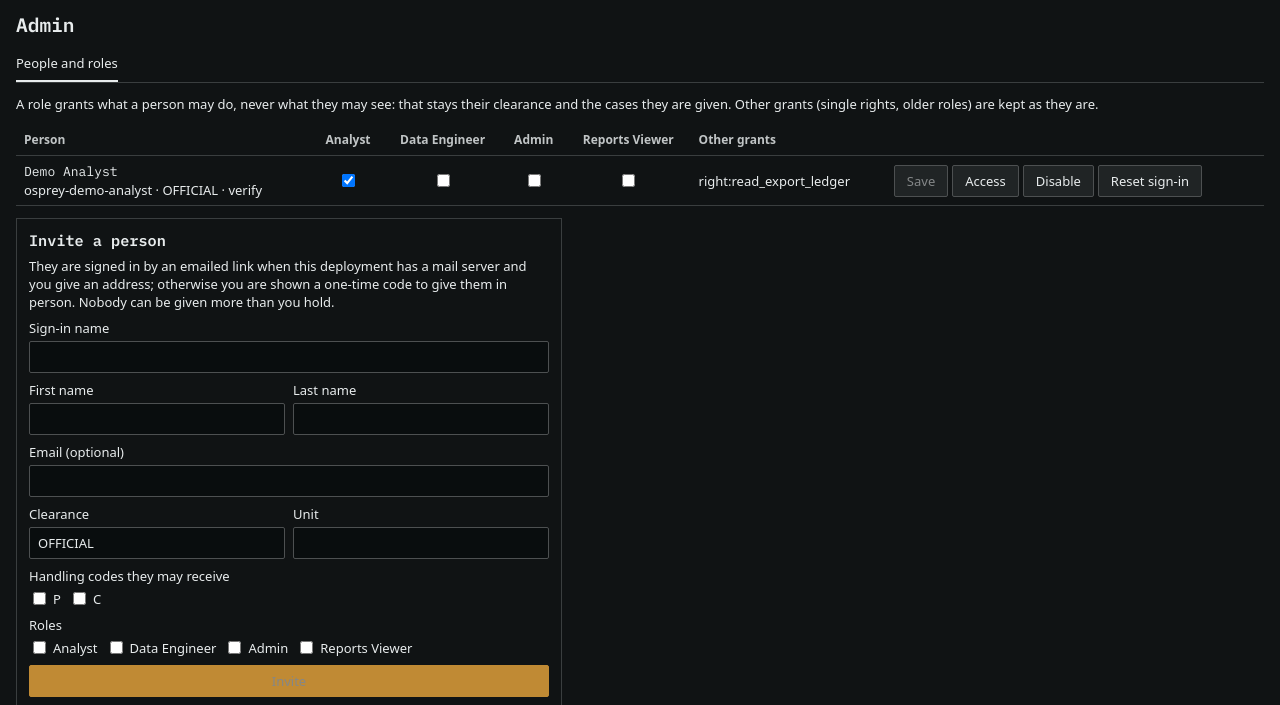
Test case: people: invite, access, disable, enable, reset sign-in › resets a person's sign-in and hands over the new code
Click the button with aria-label "Reset sign-in for osprey-demo-analyst".
click(1150, 180)  # box [1098,164,1202,196]
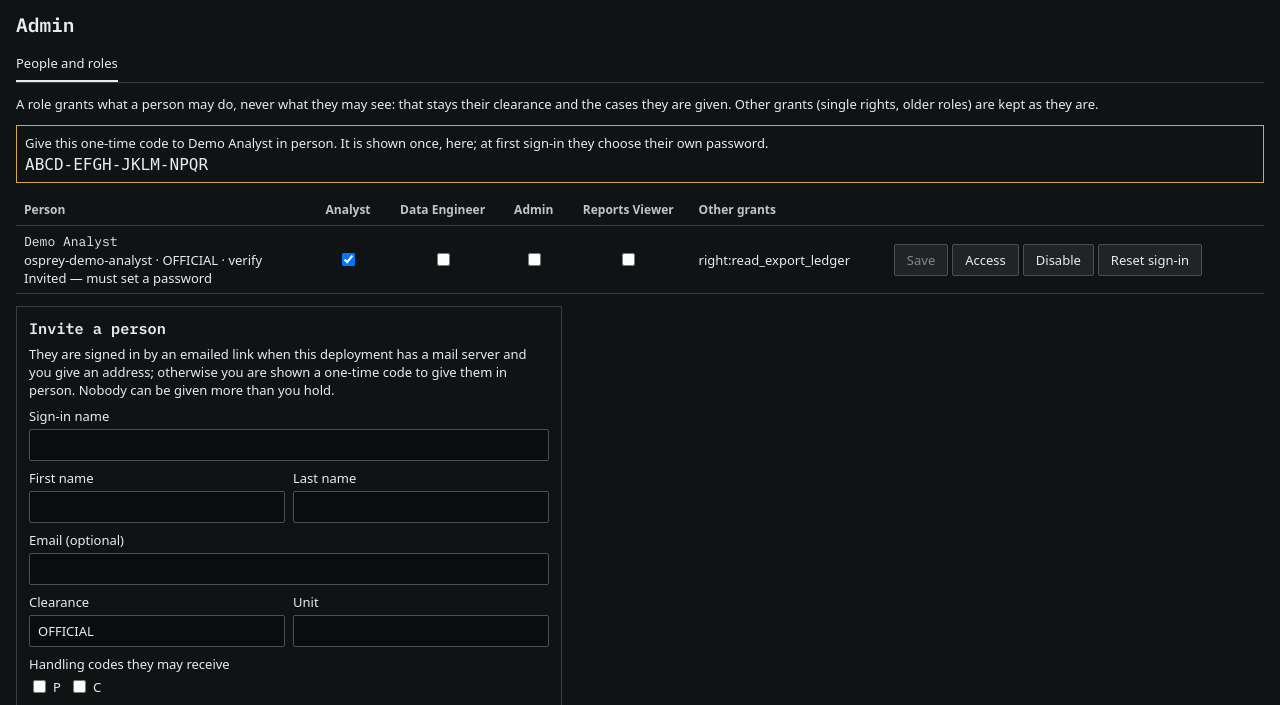
Expected: the text "ABCD-EFGH-JKLM-NPQR" is shown, [25,155,208,174]
